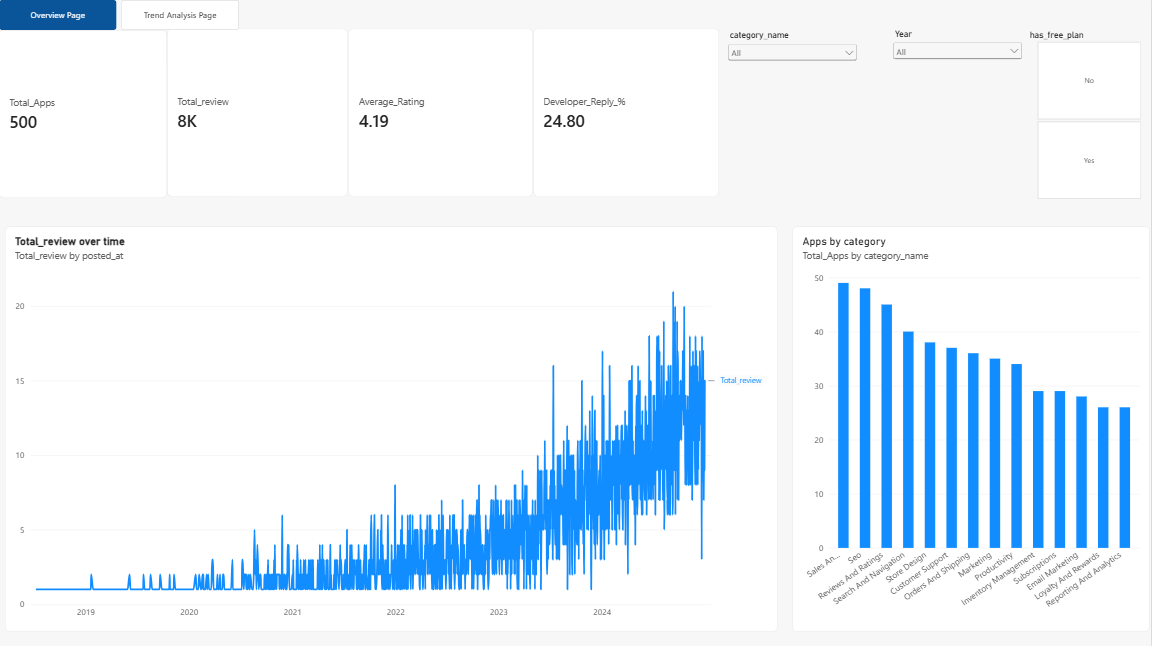

What the dashboard file says about the page in this screenshot:
{"tool":"powerbi","page":{"name":"Overview Page","canvas":[1920,1080],"ordinal":0},"visuals":[{"type":"cardVisual","fields":{"Data":["apps triple10.Total_Apps"]},"box":[0,50,280,280],"z":0},{"type":"cardVisual","fields":{"Data":["reviews triple10.Total_review"]},"box":[280,47.5,301.7,280.8],"z":1},{"type":"cardVisual","fields":{"Data":["reviews triple10.Average_Rating"]},"box":[582.5,47.5,307.7,280.8],"z":2},{"type":"cardVisual","fields":{"Data":["reviews triple10.Developer_Reply_%"]},"box":[890,47.5,310.7,280.8],"z":3},{"type":"slicer","fields":{"Values":["apps triple10.category_name"]},"box":[1209.4,50,225,283.3],"z":5},{"type":"slicer","fields":{"Values":["Dim_Date.Year"]},"box":[1484.4,46.9,225,283],"z":6},{"type":"slicer","fields":{"Values":["apps triple10.has_free_plan"]},"box":[1709.4,50,212,283],"z":7},{"type":"lineChart","title":"Total_review over time","fields":{"Category":["reviews triple10.posted_at"],"Y":["reviews triple10.Total_review"]},"box":[9.4,378.1,1287.5,675],"z":8},{"type":"clusteredColumnChart","title":"Apps by category","fields":{"Category":["apps triple10.category_name"],"Y":["apps triple10.Total_Apps"]},"box":[1322.5,377.5,595,675],"z":9},{"type":"pageNavigator","box":[0,0,400,50],"z":10}]}

Visuals, with their boxes in screenshot pixels (x1, y1, x2, y2), scaled from the page's 1920x1080 canvas onto the 1152x646 screenshot:
cardVisual - apps triple10.Total_Apps: BBox(0, 30, 168, 197)
cardVisual - reviews triple10.Total_review: BBox(168, 28, 349, 196)
cardVisual - reviews triple10.Average_Rating: BBox(350, 28, 534, 196)
cardVisual - reviews triple10.Developer_Reply_%: BBox(534, 28, 720, 196)
slicer - apps triple10.category_name: BBox(726, 30, 861, 199)
slicer - Dim_Date.Year: BBox(891, 28, 1026, 197)
slicer - apps triple10.has_free_plan: BBox(1026, 30, 1151, 199)
"Total_review over time" lineChart: BBox(6, 226, 778, 630)
"Apps by category" clusteredColumnChart: BBox(794, 226, 1150, 630)
pageNavigator: BBox(0, 0, 240, 30)
